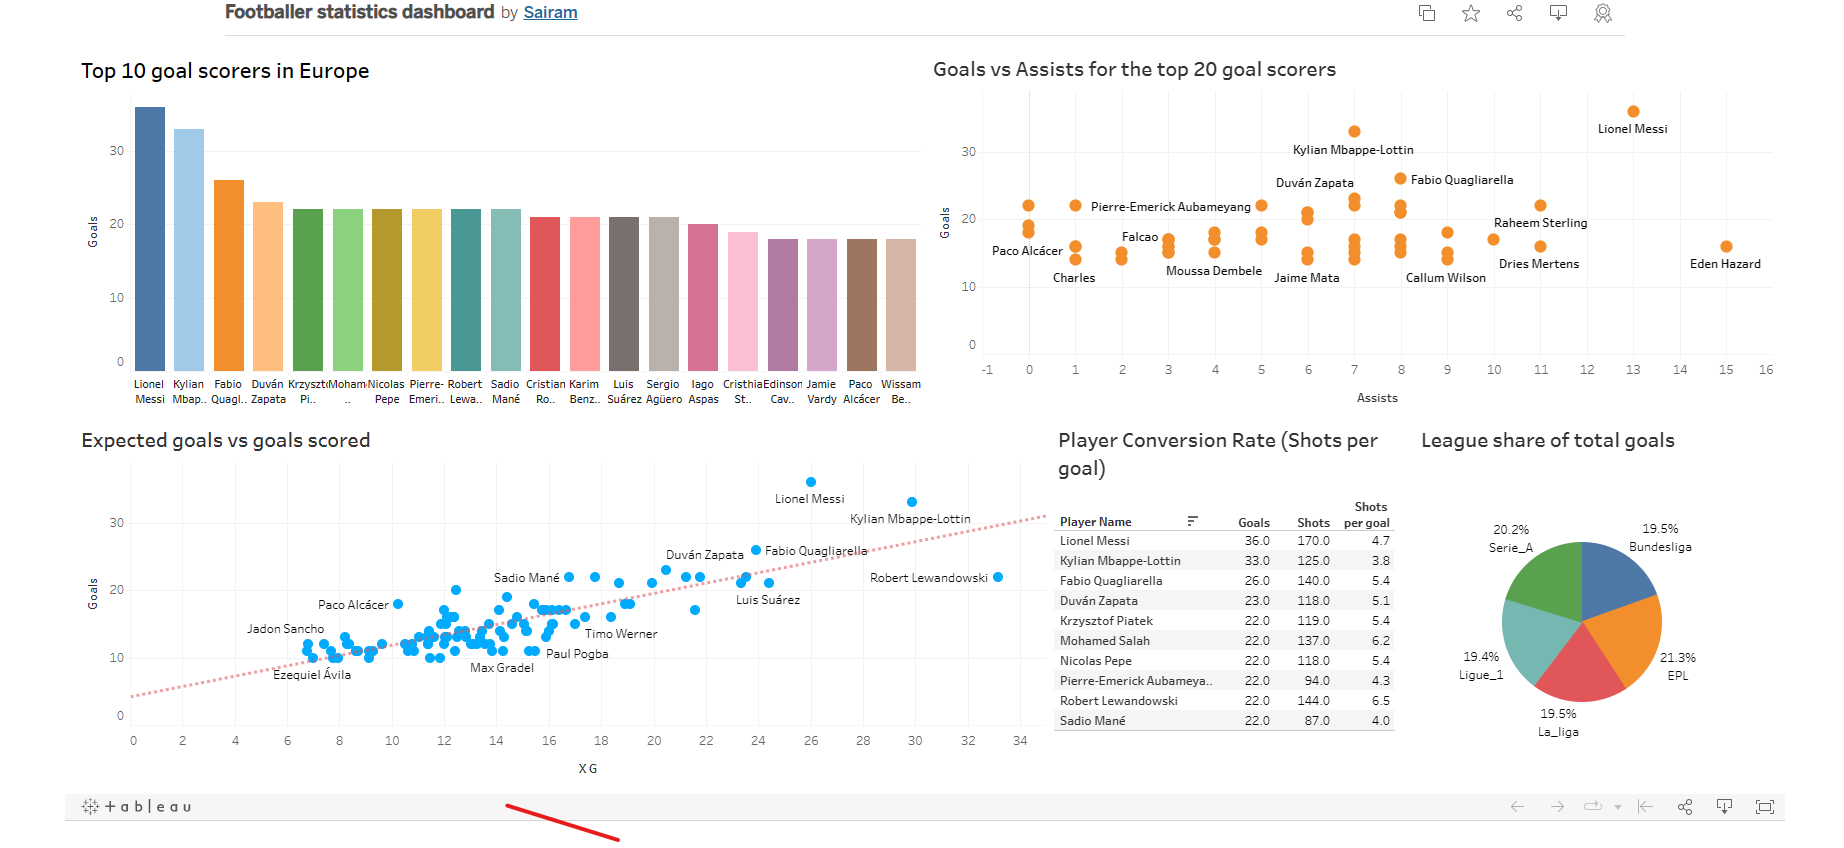

What the dashboard file says about the page in this screenshot:
{"tool":"tableau","page":{"name":"Dashboard 1","canvas":[1000,1000],"units":"permille","ordinal":0},"visuals":[{"type":"worksheet","title":"Sheet 2","mark":"Automatic","rows":["goals"],"cols":["player_name"],"box":[4.7,9.3,495.3,490.7]},{"type":"worksheet","title":"Sheet 1","mark":"Automatic","rows":["goals"],"cols":["assists"],"box":[500,9.3,495.4,490.7]},{"type":"worksheet","title":"Sheet 4","mark":"Circle","rows":["goals"],"cols":["xG"],"box":[4.7,500,568,490.7]},{"type":"worksheet","title":"Sheet 6","mark":"Automatic","rows":["player_name"],"box":[572.6,500,211.3,490.7]},{"type":"worksheet","title":"Sheet 7","mark":"Pie","box":[784,500,211.3,490.7]}]}

Visuals, with their boxes on the dashboard's canvas, which has no fixed pixel size, in thousandths of its width and height (x1, y1, x2, y2). These are canvas units, not pixel positions in the 1844x848 screenshot, which may show the page scaled, cropped or inside an application window:
"Sheet 2" worksheet: [5,9,500,500]
"Sheet 1" worksheet: [500,9,995,500]
"Sheet 4" worksheet (Circle marks): [5,500,573,991]
"Sheet 6" worksheet: [573,500,784,991]
"Sheet 7" worksheet (Pie marks): [784,500,995,991]
